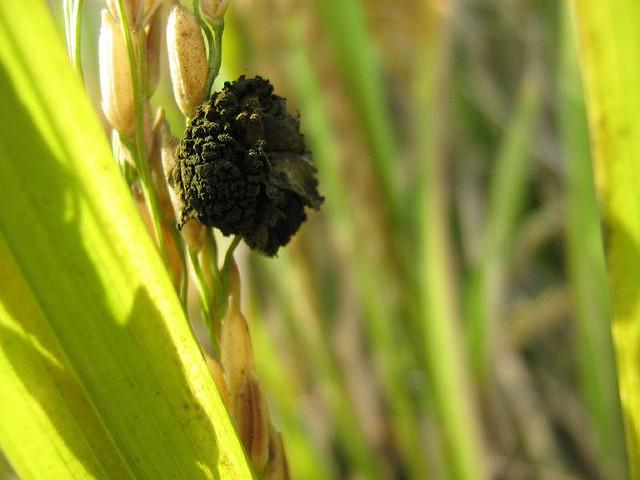False Smut: (174, 65, 331, 265)
